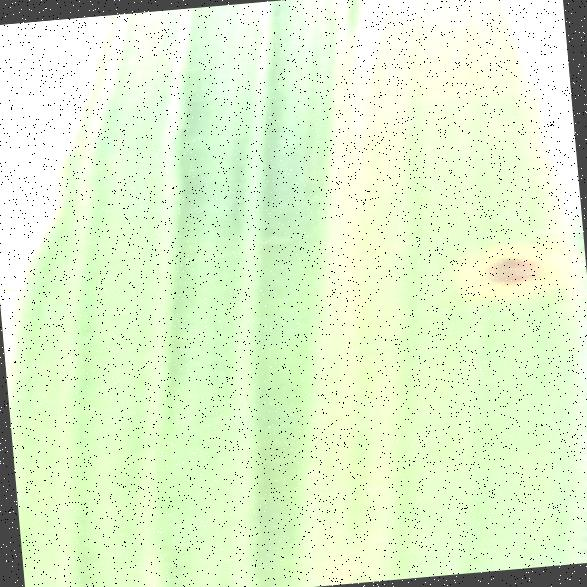Brown_Spot: (448, 216, 574, 320)
